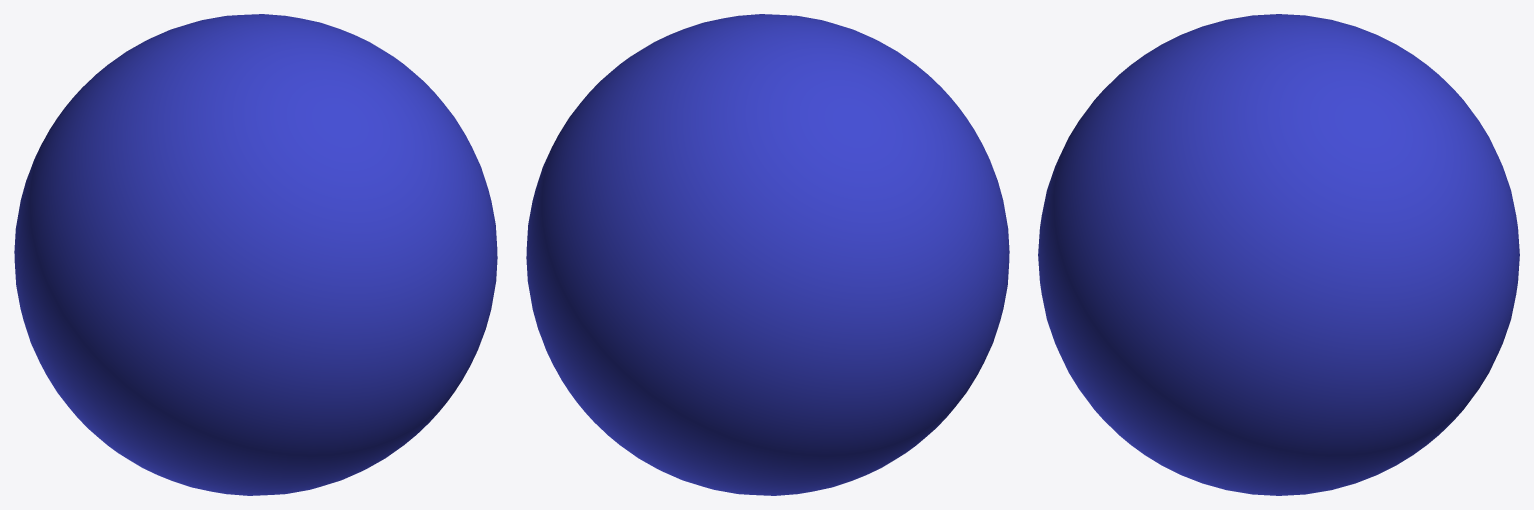
The model's file is spheremodel.fbx.
3 views of the same model, side by side, from view 1: azimuth 30°, elevation 25°; view 2: azimuth 150°, elevation 25°; view 3: azimuth 270°, elevation 25° (orthographic).
Parts seen in each view (by area): view 1: root; view 2: root; view 3: root.
Boxes of the visible parts, <box> form: root: <box>14,14,497,495</box>; root: <box>526,14,1009,495</box>; root: <box>1038,14,1519,495</box>.
Size of the model in its own units: 0.1258 by 0.1254 by 0.1254.
